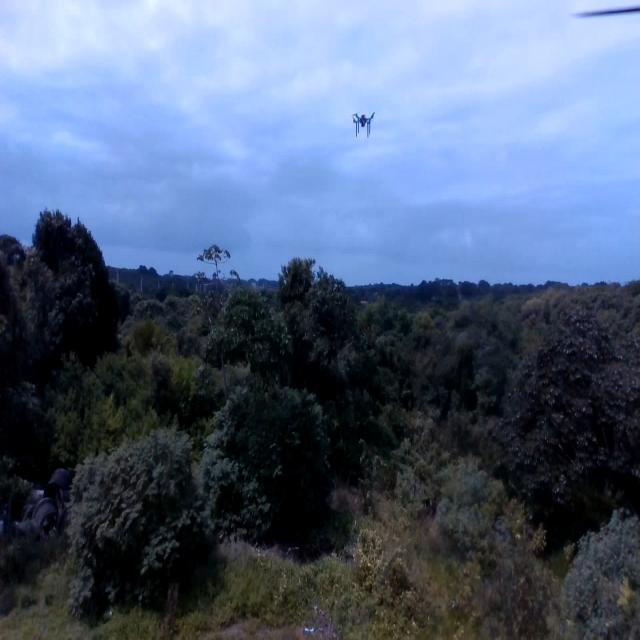-uav-: (348, 101, 382, 163)
